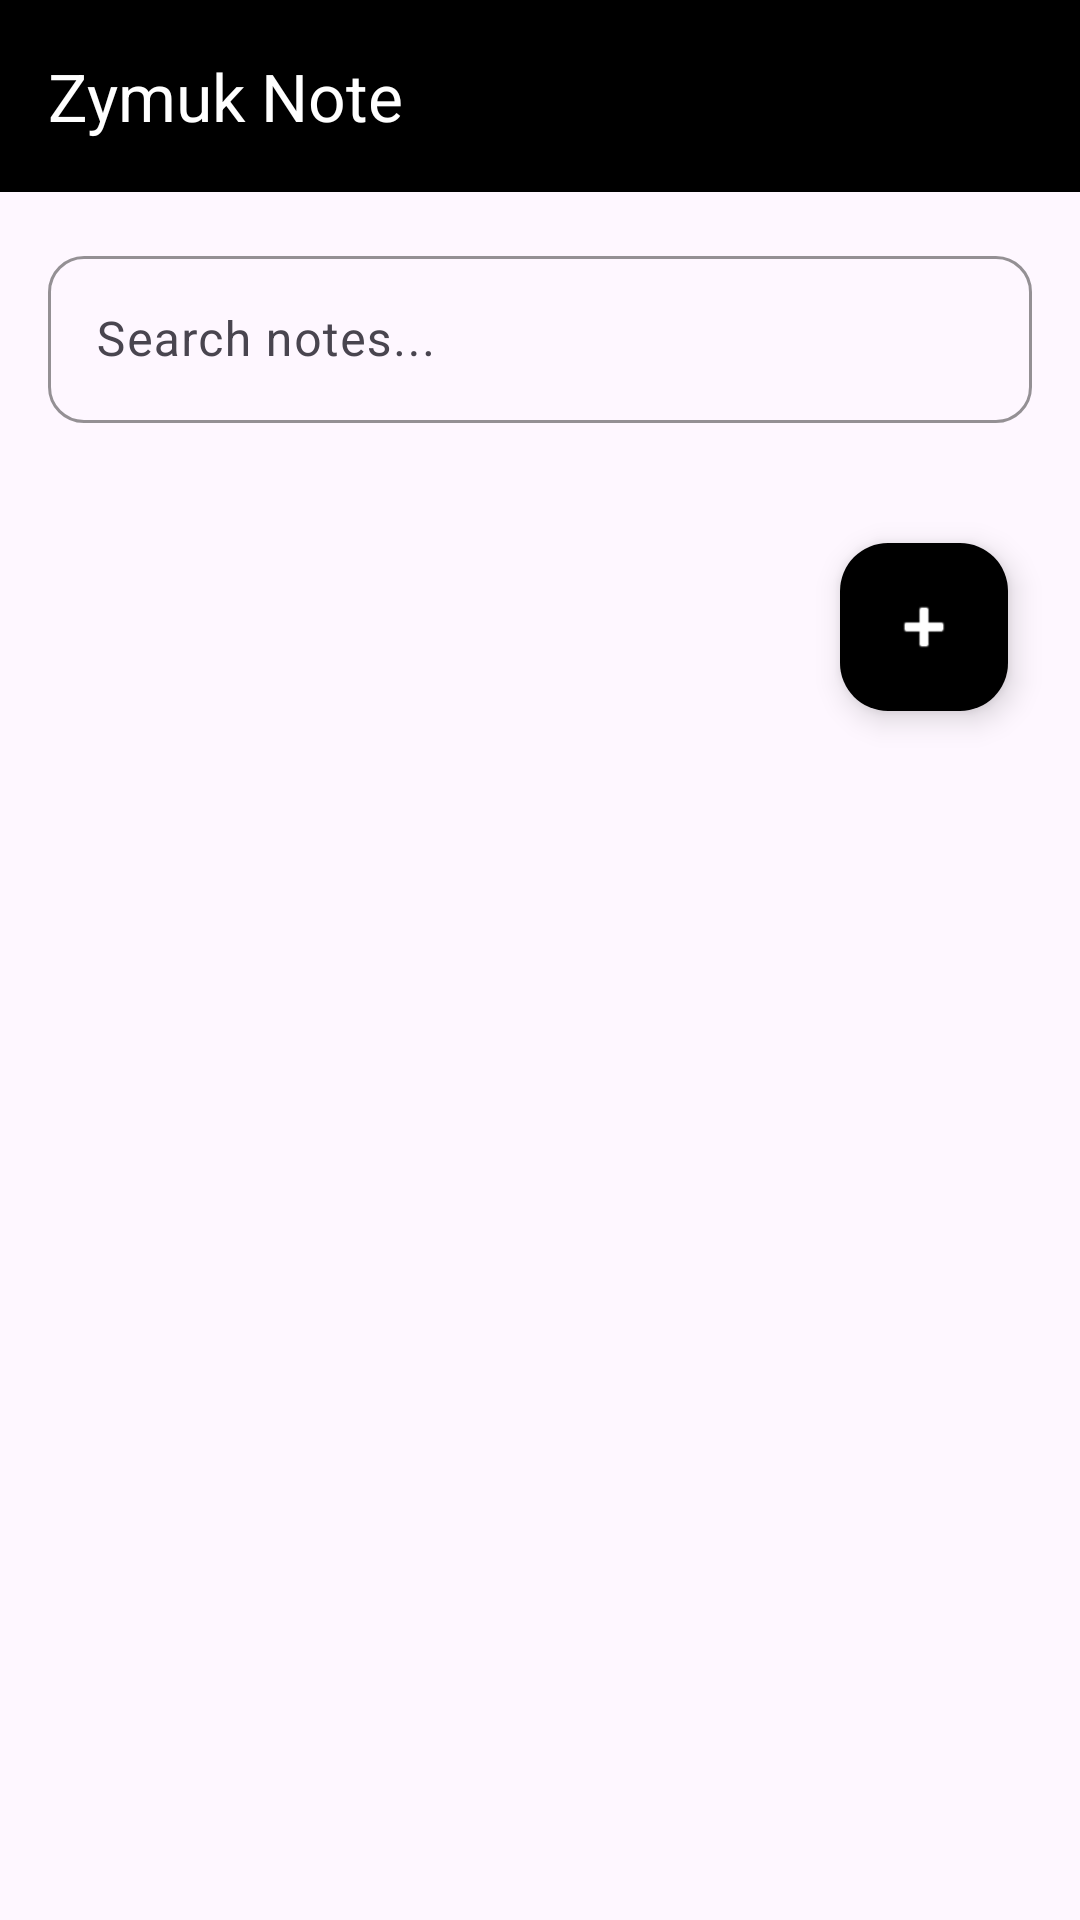

Where icons sit on this 1080px x 1920px app screen, as bbox=[x1, y1, x2, y2]:
Add new note: bbox=[840, 543, 1008, 711]
